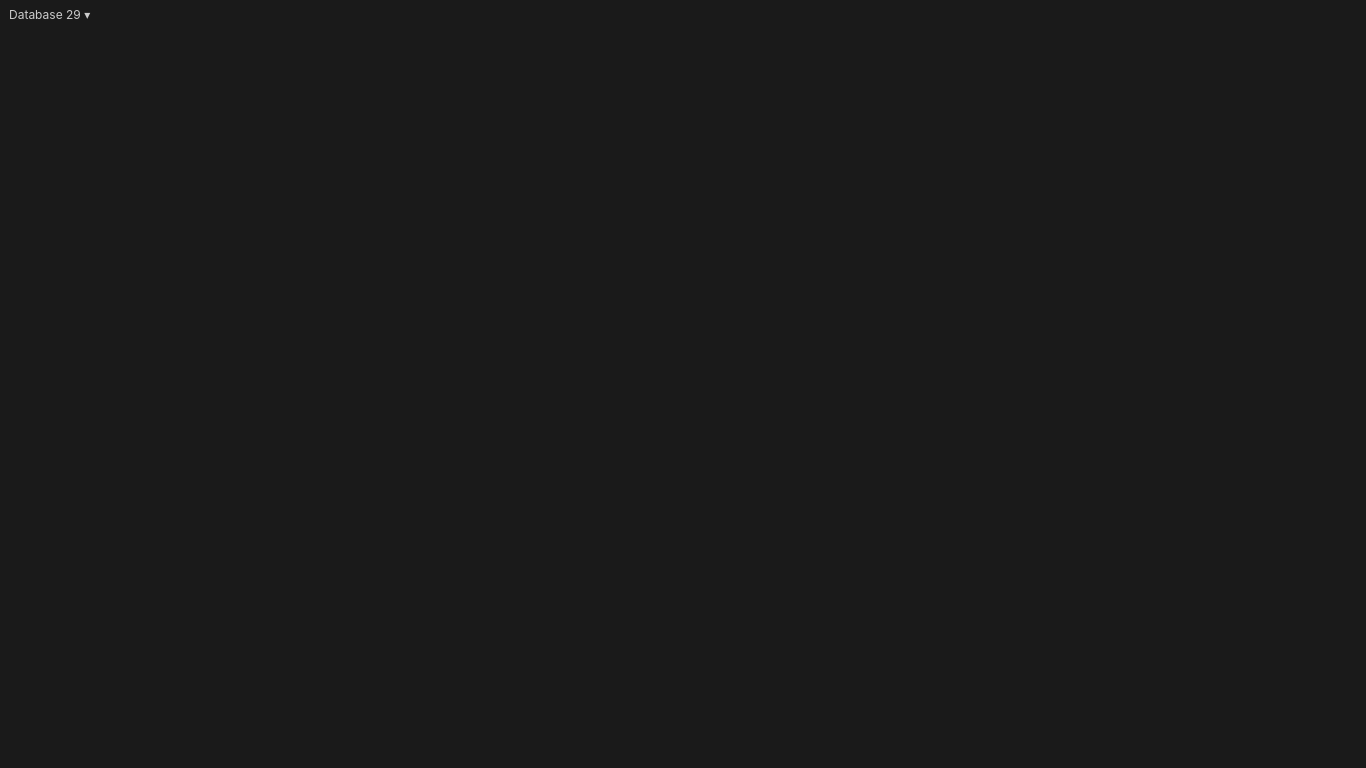
Test: ConnectionManager bounded shortcuts › reports invalid storage instead of silently discarding history
The width and height of the screenshot is (1366, 768).
Press Enter in the button with aria-label "Query connection", box [0,0,99,28]
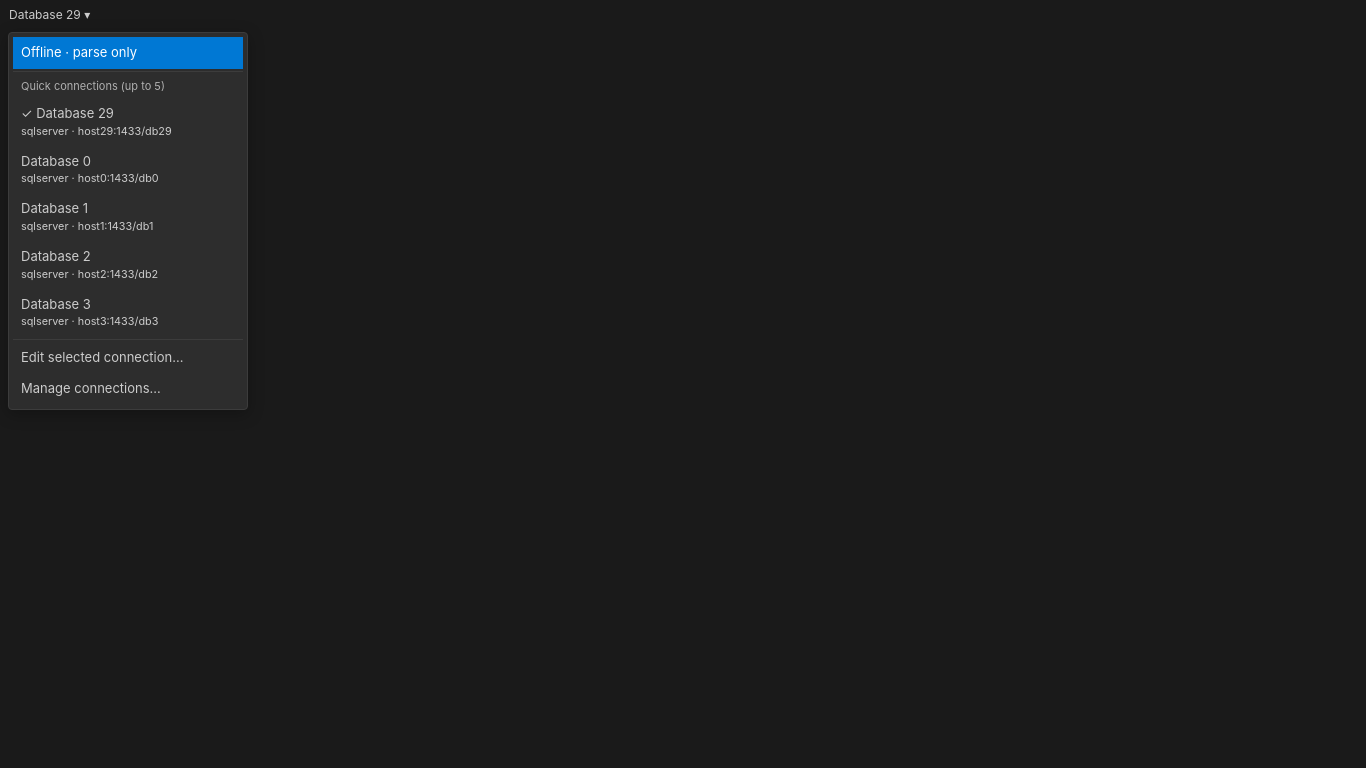
Click the menu item "Manage connections…": (91, 388) [21,380,161,396]
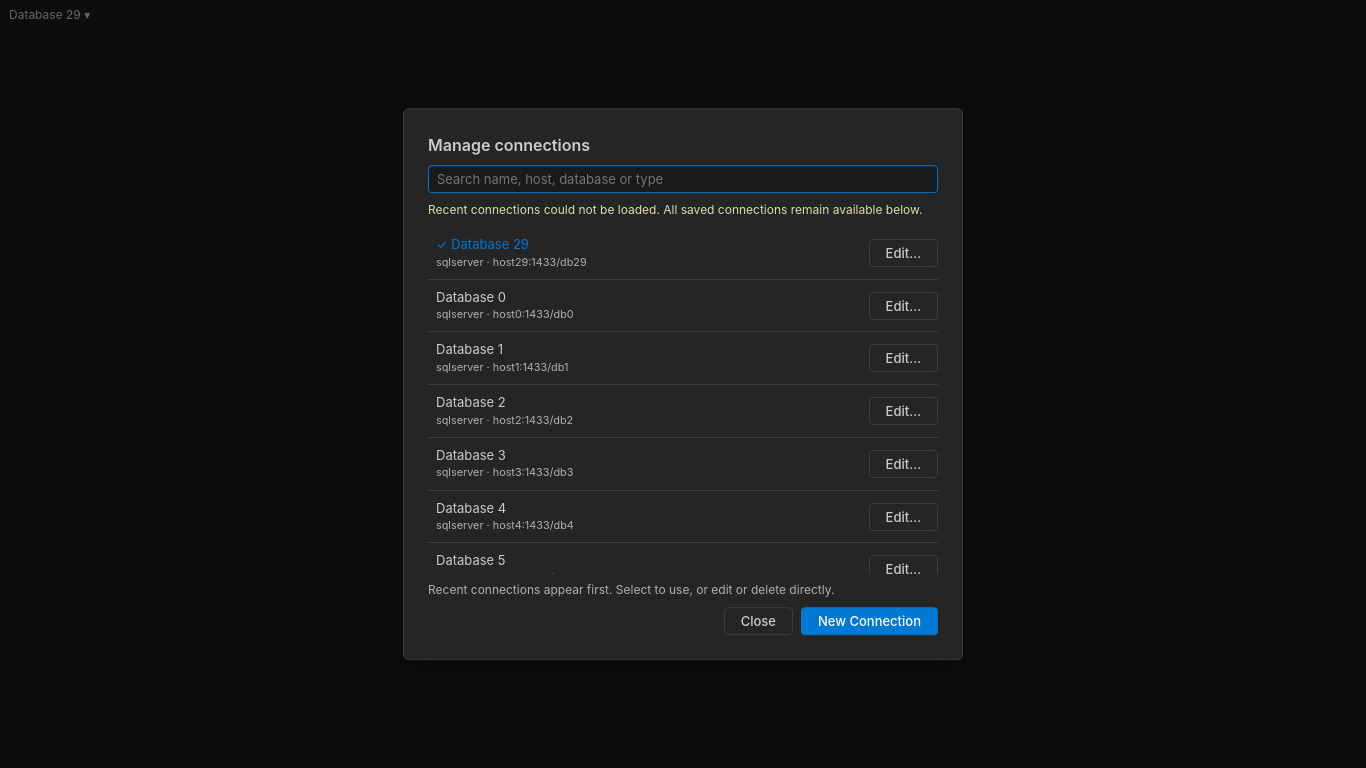
expect the message shows "Recent connections could not be loaded": met, box [428,202,922,217]
